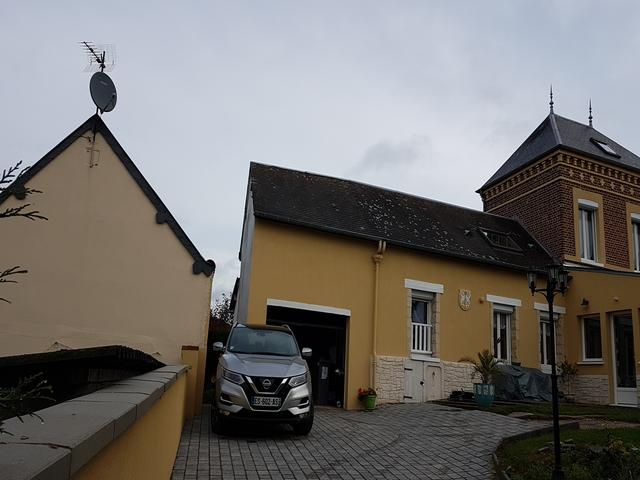Quashquai: (245, 395, 286, 409)
